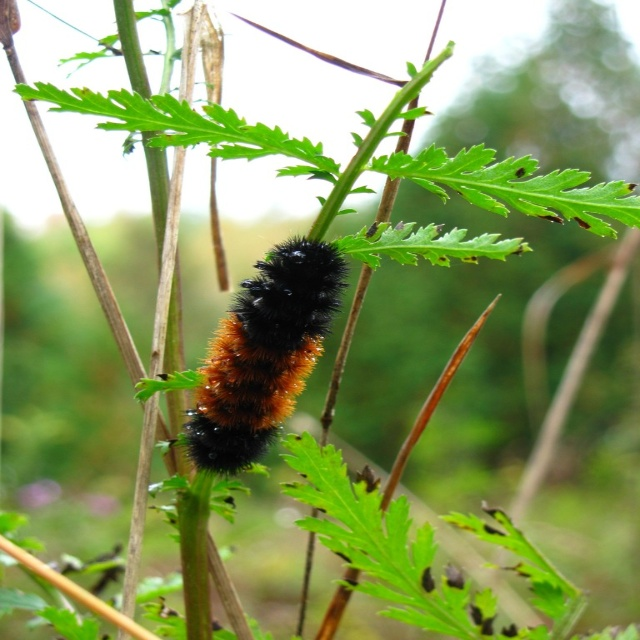Caterpillar: (177, 232, 350, 484)
